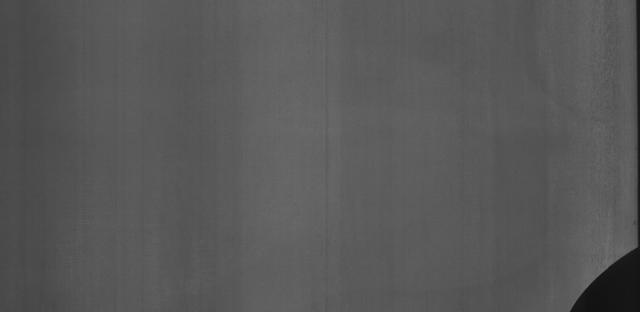crescent_gap: (560, 230, 640, 312)
